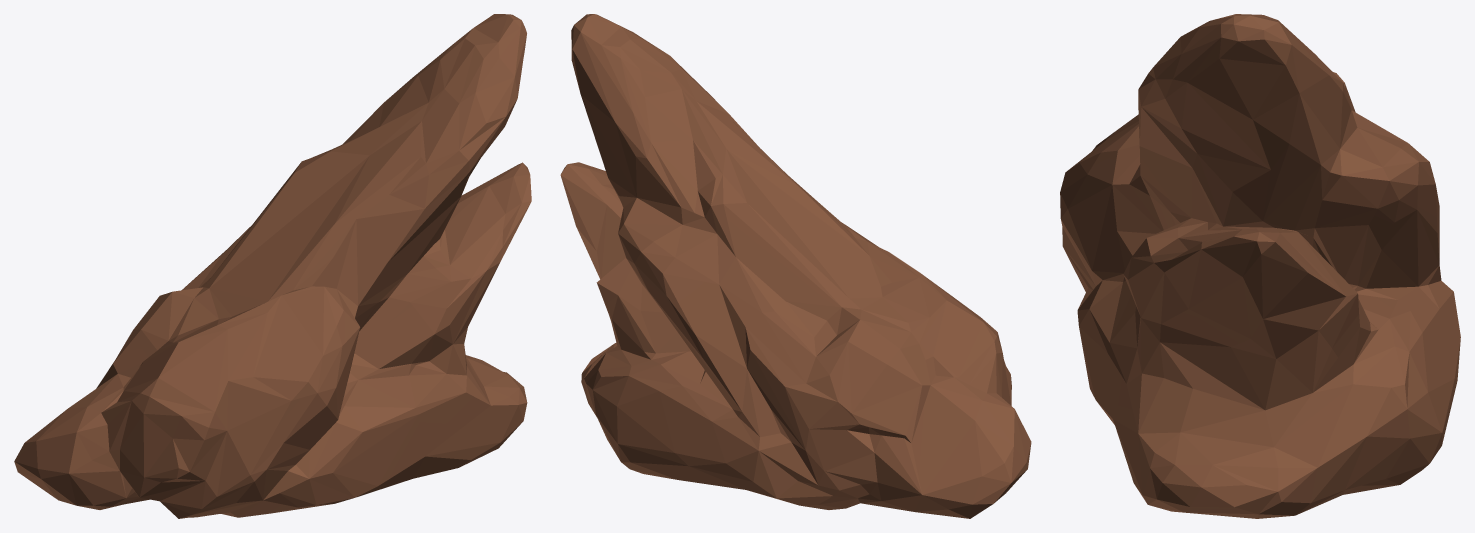
File: bg-mesa-c.glb
3 renders of one model, left to right at view 1: azimuth 30°, elevation 25°; view 2: azimuth 150°, elevation 25°; view 3: azimuth 270°, elevation 25°, orthographic. The views are drawn at different scales.
Visible parts, largest first — view 1: SM_Env_Rocks_Spikes_Large_01; view 2: SM_Env_Rocks_Spikes_Large_01; view 3: SM_Env_Rocks_Spikes_Large_01.
Boxes of the visible parts, <box> form: SM_Env_Rocks_Spikes_Large_01: <box>14,14,531,518</box>; SM_Env_Rocks_Spikes_Large_01: <box>560,14,1031,518</box>; SM_Env_Rocks_Spikes_Large_01: <box>1060,14,1460,518</box>.
Size of the model in its own units: 12.82 by 10.3 by 6.88.
1 material, 1 textured.
